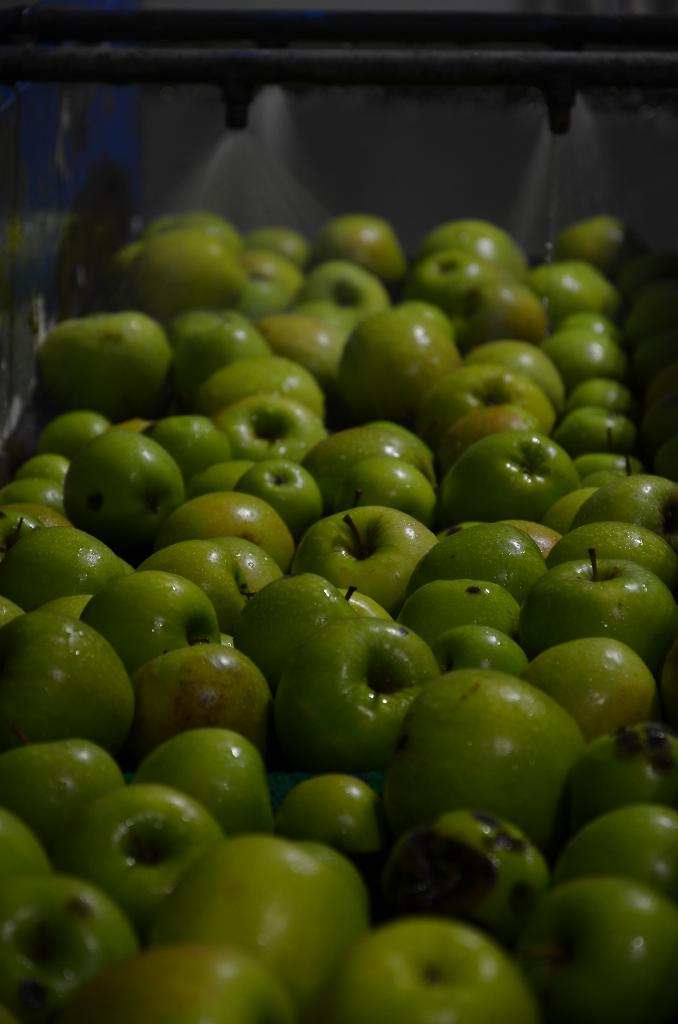Apple: (0, 208, 677, 1023), (306, 504, 434, 584)
